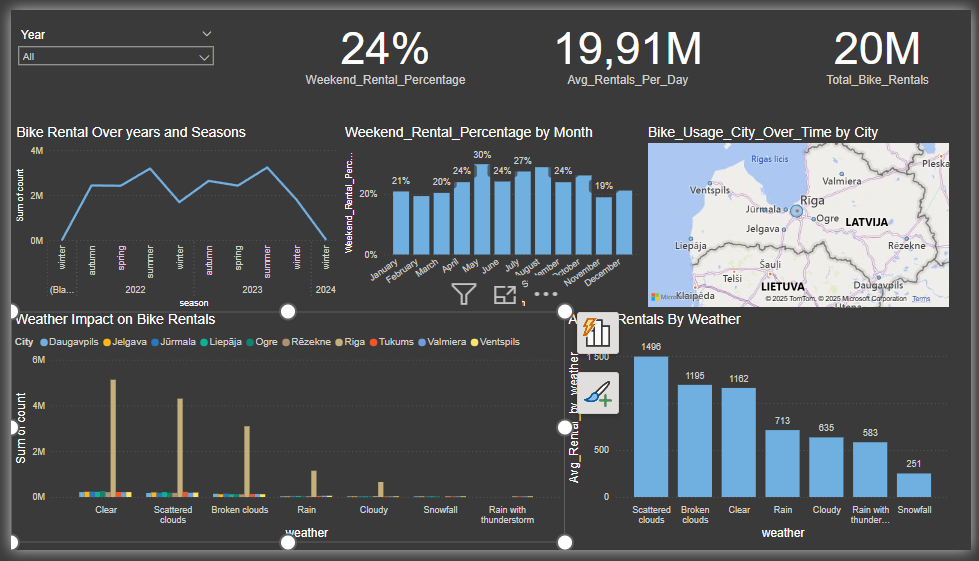

The page's visual inventory and layout, read from the dashboard file:
{"tool":"powerbi","page":{"name":"Page 1","canvas":[1280,720],"ordinal":0},"visuals":[{"type":"card","fields":{"Values":["Sheet1.Total_Bike_Rentals"]},"box":[1054,0,202,110],"z":0},{"type":"card","fields":{"Values":["Sheet1.Avg_Rentals_Per_Day"]},"box":[704,0,236,110],"z":1},{"type":"card","fields":{"Values":["Sheet1.Weekend_Rental_Percentage"]},"box":[358,0,282,110],"z":2},{"type":"lineChart","title":"Bike Rental Over years and Seasons","fields":{"Y":["Sum(Sheet1.count)"],"Category":["Sheet1.time.Variation.Date Hierarchy.Year","Sheet1.season"]},"box":[2,152,438,250],"z":3},{"type":"clusteredColumnChart","title":"Weather Impact on Bike Rentals","fields":{"Category":["Sheet1.weather"],"Y":["Sum(Sheet1.count)"],"Series":["Sheet1.City"]},"box":[0,402,738,308],"z":4},{"type":"columnChart","title":"Averge Rentals By Weather","fields":{"Category":["Sheet1.weather"],"Y":["Sheet1.Avg_Rental_by_weather"]},"box":[738,402,518,308],"z":5},{"type":"lineClusteredColumnComboChart","fields":{"Category":["Sheet1.time.Variation.Date Hierarchy.Month"],"Y":["Sheet1.Weekend_Rental_Percentage"]},"box":[440,152,404,250],"z":6},{"type":"slicer","fields":{"Values":["Sheet1.time.Variation.Date Hierarchy.Year"]},"box":[0,18,280,92],"z":7},{"type":"map","fields":{"Category":["Sheet1.City"],"Size":["Sheet1.Bike_Usage_City_Over_Time"]},"box":[844,152,412,250],"z":8}]}

Visuals, with their boxes in screenshot pixels (x1, y1, x2, y2), scaled from the page's 1280x720 canvas onto the 979x561 screenshot:
card - Sheet1.Total_Bike_Rentals: (806,0,961,86)
card - Sheet1.Avg_Rentals_Per_Day: (538,0,719,86)
card - Sheet1.Weekend_Rental_Percentage: (274,0,490,86)
"Bike Rental Over years and Seasons" lineChart: (2,118,337,313)
"Weather Impact on Bike Rentals" clusteredColumnChart: (0,313,564,553)
"Averge Rentals By Weather" columnChart: (564,313,961,553)
lineClusteredColumnComboChart - Sheet1.time.Variation.Date Hierarchy.Month x Sheet1.Weekend_Rental_Percentage: (337,118,646,313)
slicer - Sheet1.time.Variation.Date Hierarchy.Year: (0,14,214,86)
map - Sheet1.City x Sheet1.Bike_Usage_City_Over_Time: (646,118,961,313)
